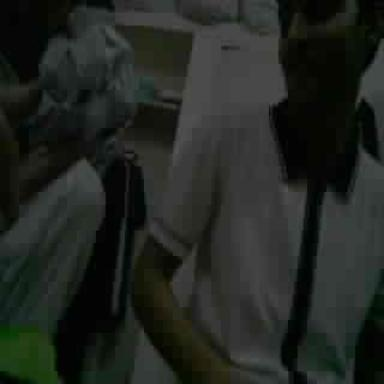paper: (31, 26, 134, 142)
